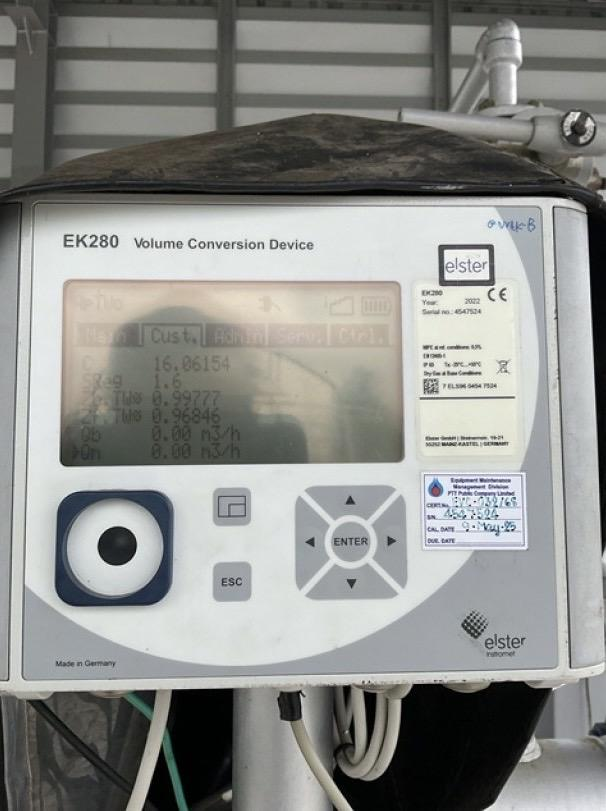digital_screen: (60, 278, 403, 464)
